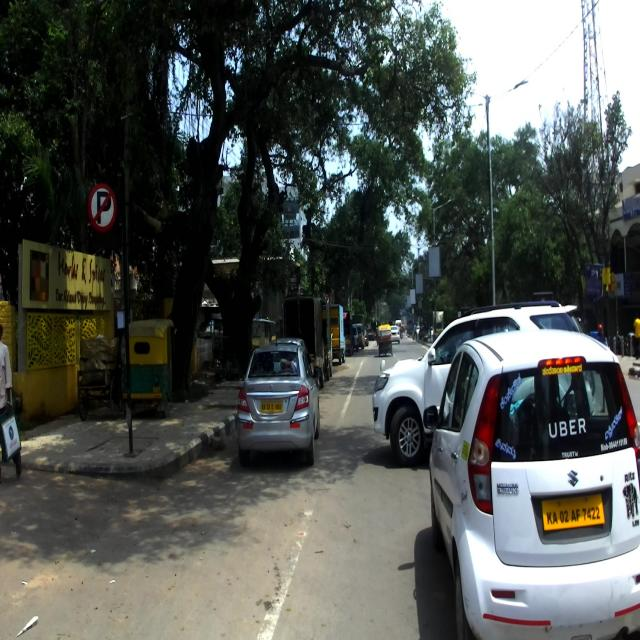Car_Maruti-Suzuki: (421, 330, 640, 640), (236, 332, 322, 468)
Car_Toyota: (370, 299, 585, 468)
autorickshaw: (123, 318, 177, 418)
